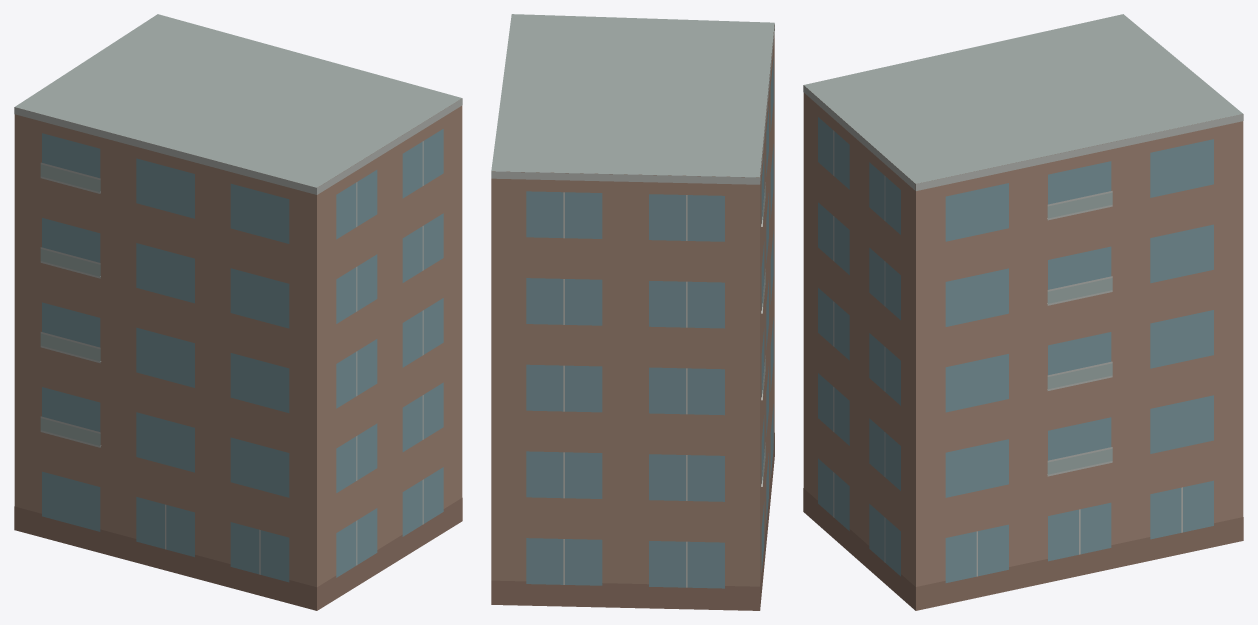
The model's file is survey-upis-32982176.glb.
3 views of the same model, side by side, from view 1: azimuth 30°, elevation 25°; view 2: azimuth 150°, elevation 25°; view 3: azimuth 270°, elevation 25° (orthographic). The views are drawn at different scales.
Visible parts, largest first — view 1: survey-upis-32982176.tmp; view 2: survey-upis-32982176.tmp; view 3: survey-upis-32982176.tmp.
Boxes of the visible parts, <box> form: survey-upis-32982176.tmp: <box>14,14,462,610</box>; survey-upis-32982176.tmp: <box>491,14,774,610</box>; survey-upis-32982176.tmp: <box>803,14,1243,610</box>.
Bounding box in the file's own units: 12.31 × 14.4 × 13.46.
